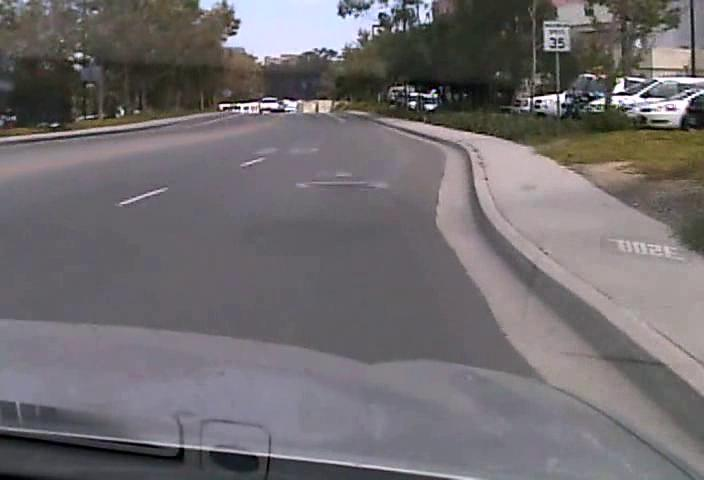speedLimit35: (543, 19, 570, 51)
